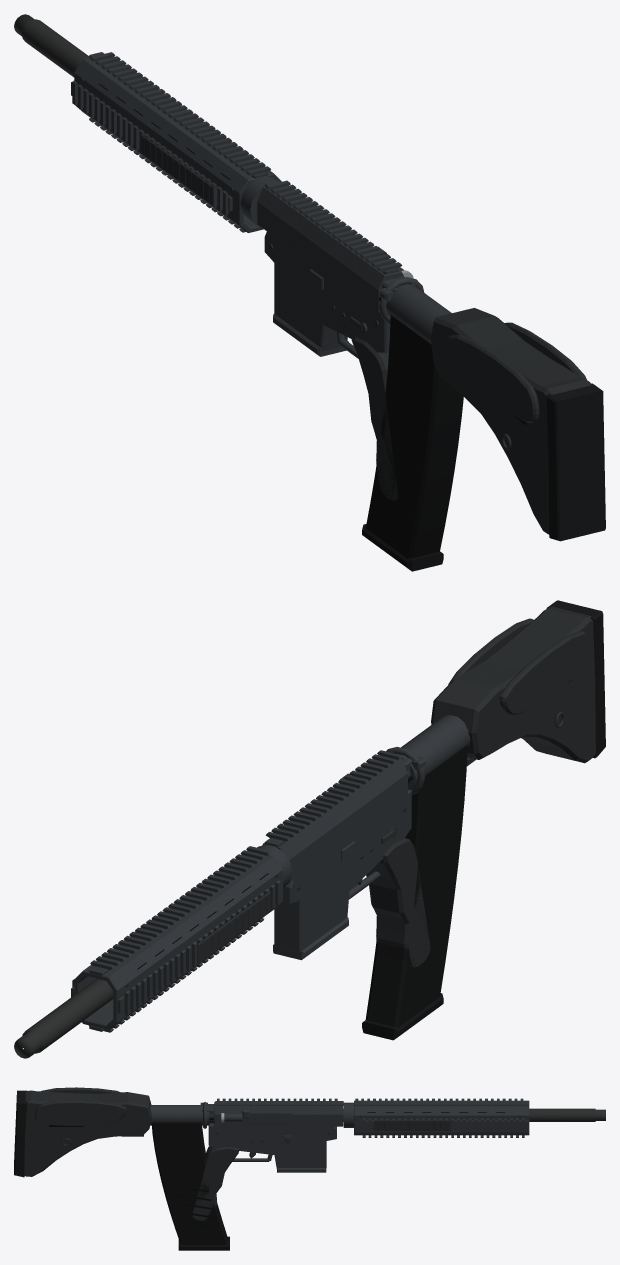
File: weapon-0-u_vjAIVZ.glb
3 renders of one model, top to bottom at view 1: azimuth 30°, elevation 25°; view 2: azimuth 150°, elevation 25°; view 3: azimuth 270°, elevation 25°, orthographic. The views are drawn at different scales.
Visible parts, largest first — view 1: salient_weapon_body, salient_weapon_magazine; view 2: salient_weapon_body, salient_weapon_magazine; view 3: salient_weapon_body, salient_weapon_magazine.
Boxes of the visible parts, box(x1,y1,x2,y2) form: salient_weapon_body: box(14, 14, 605, 541); salient_weapon_magazine: box(362, 315, 463, 571); salient_weapon_body: box(14, 600, 605, 1058); salient_weapon_magazine: box(362, 745, 467, 1040); salient_weapon_body: box(14, 1087, 605, 1220); salient_weapon_magazine: box(152, 1122, 229, 1250).
Bounding box in the file's own units: 0.0489 × 0.2279 × 0.8032.
Materials: 12 (3 with a texture image).
